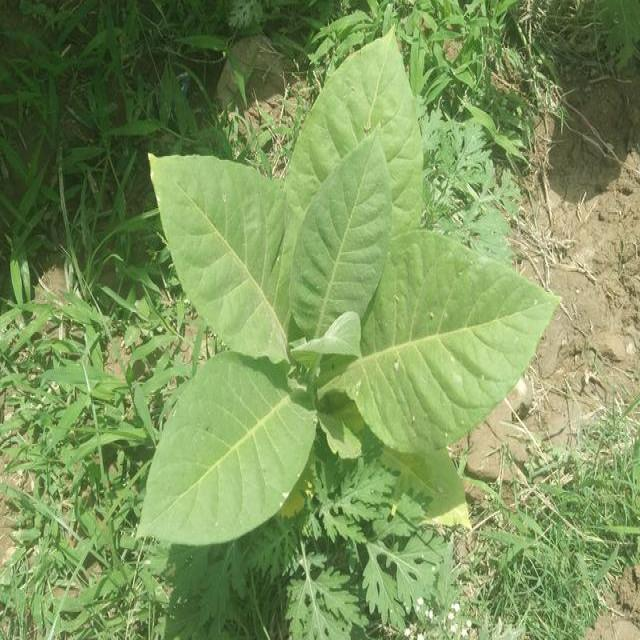crop: (141, 28, 561, 572)
